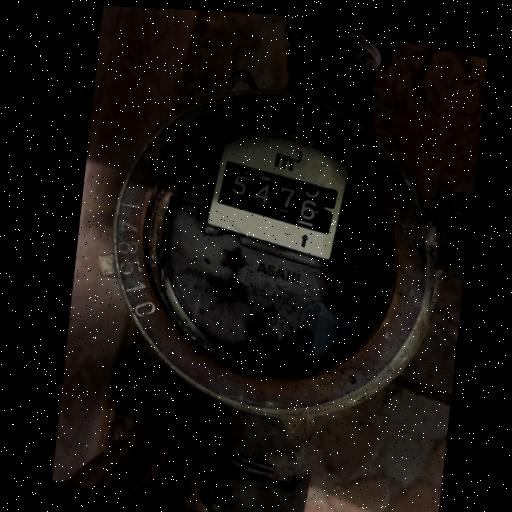4: (249, 173, 279, 209)
5: (225, 165, 257, 203)
6: (292, 185, 325, 230)
7: (272, 179, 302, 217)
border_water_meter_number: (214, 157, 340, 235)
